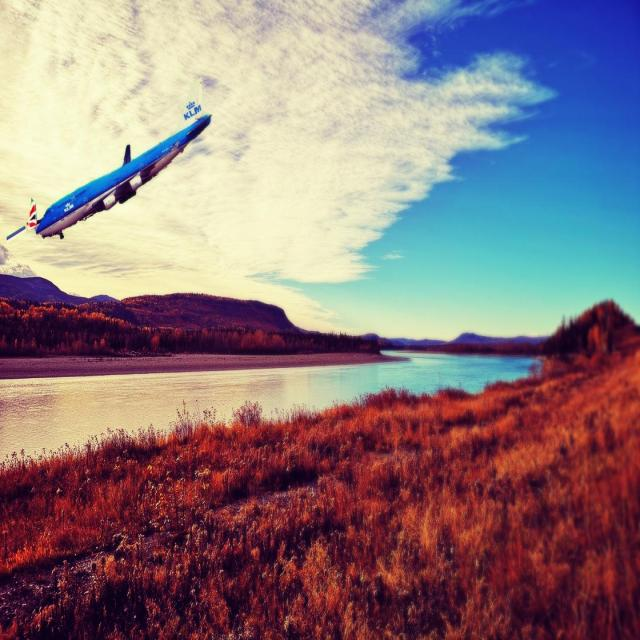airplane: (6, 83, 212, 242)
